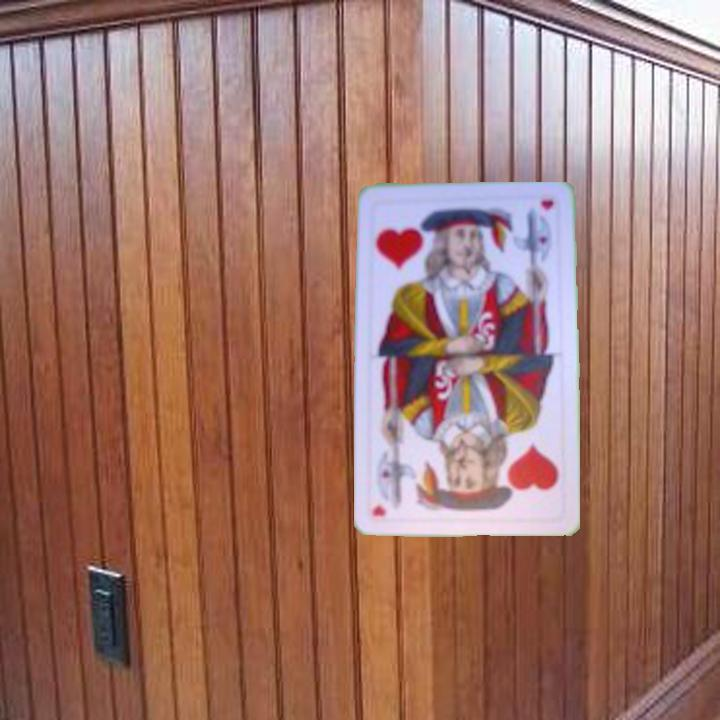h_j.png: (368, 198, 468, 284), (463, 434, 563, 520)
